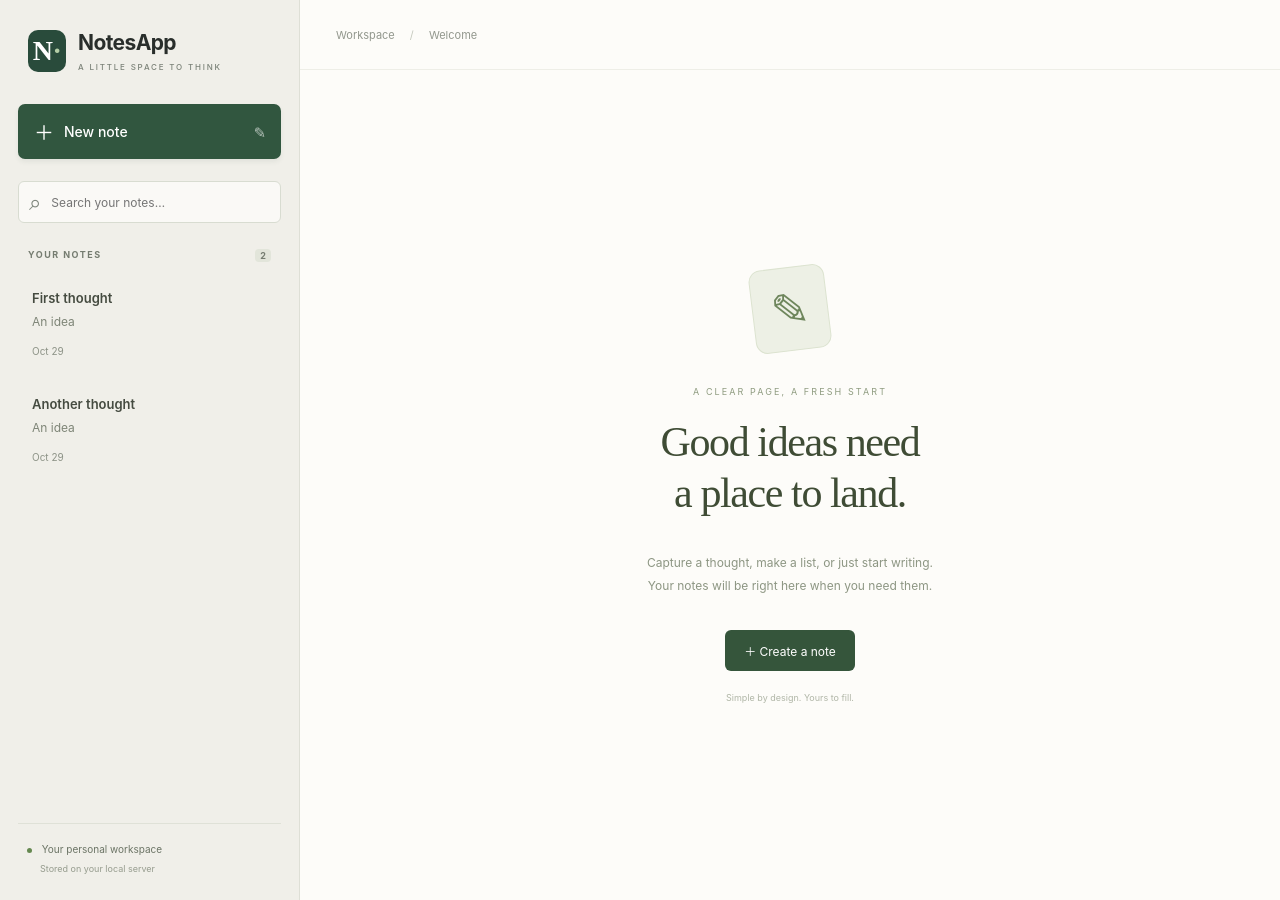
Test: Notes workspace › keeps edits when save fails, blocks navigation, and retries
Step 1. Click the button "First thought An idea Oct 29" → (72, 298), box [18,274,281,374]
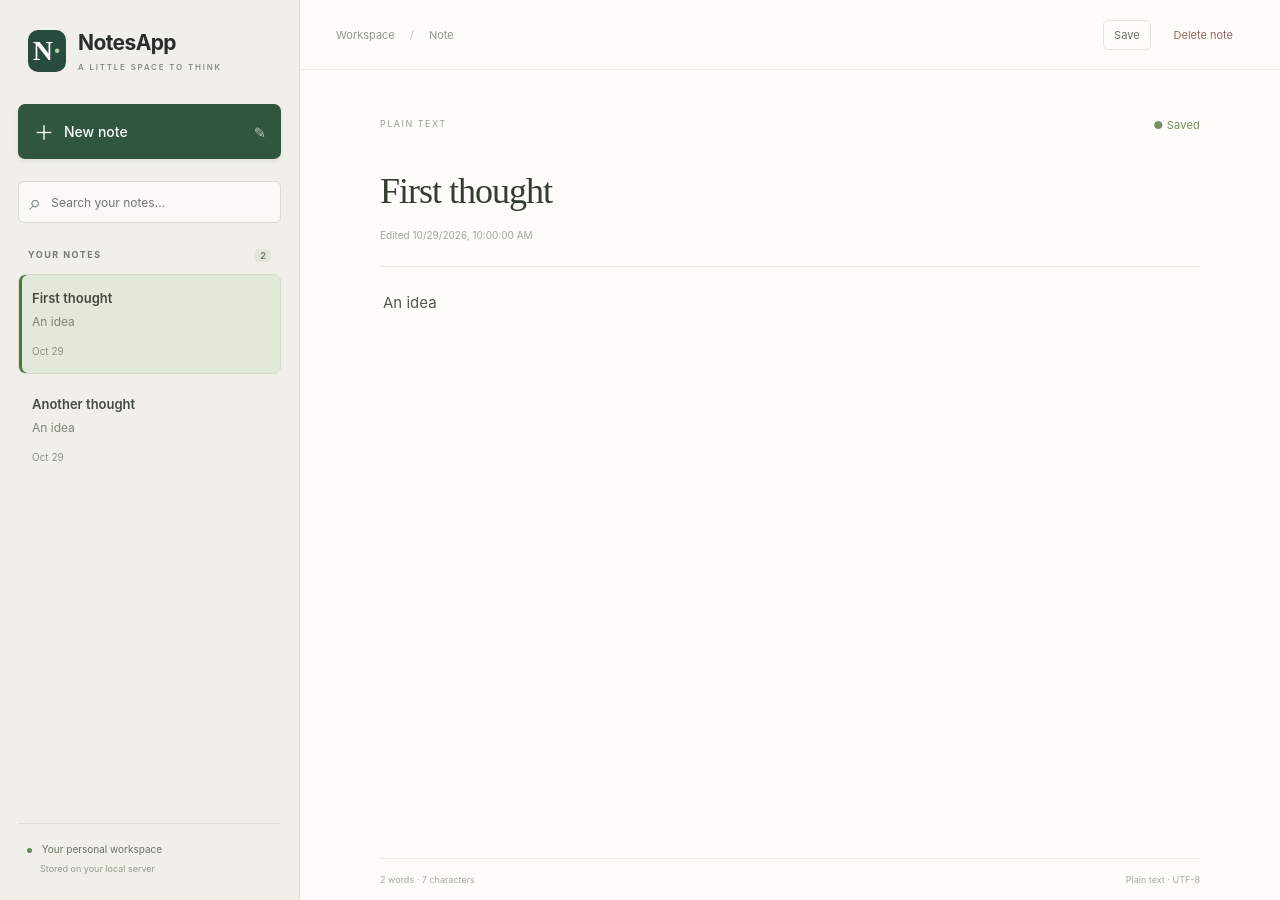
Step 2. Replace the text in the text box named "Note body" with "Keep this draft" → (790, 574), box [380,289,1200,858]
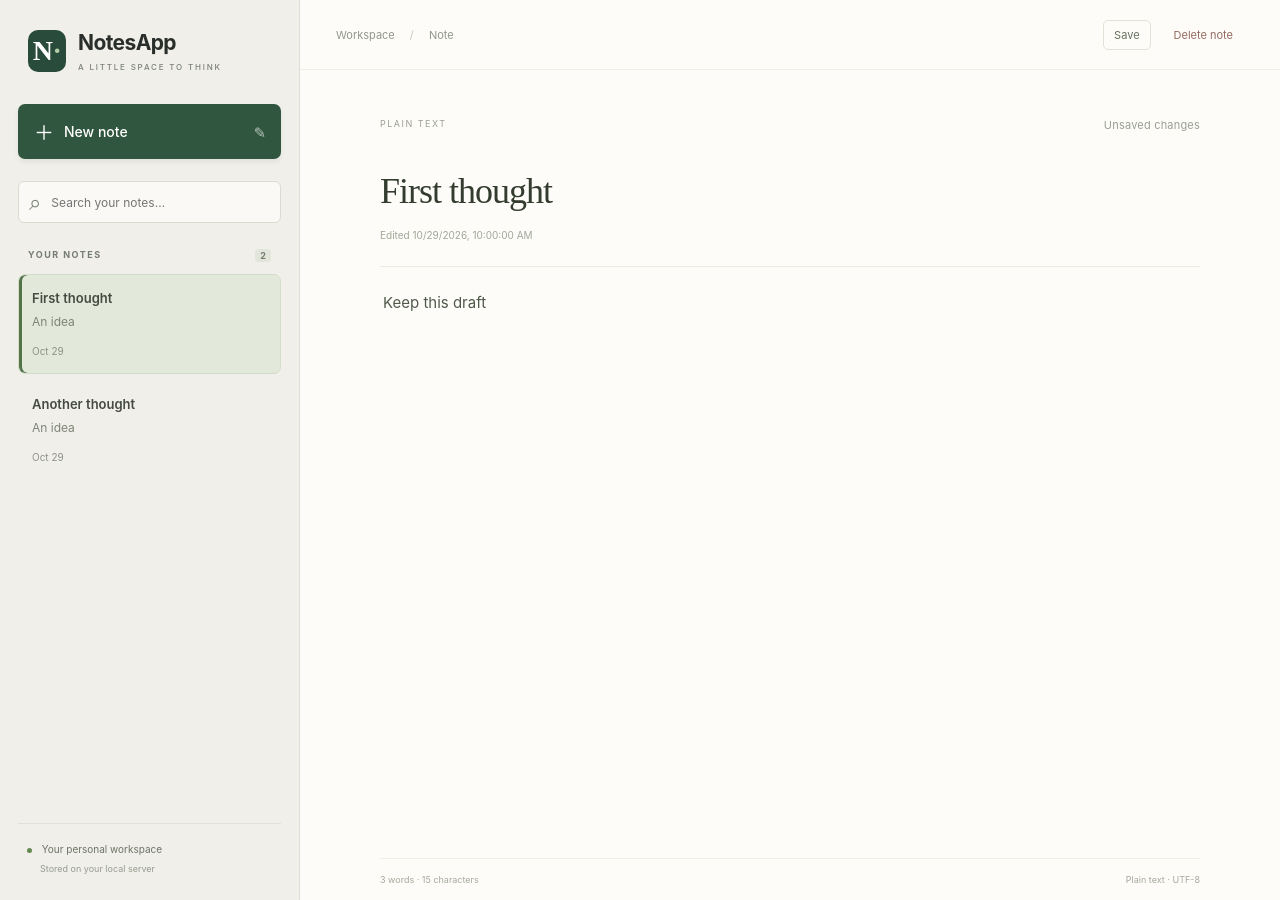
Step 3. Click the button "Another thought An idea Oct 29" → (84, 404), box [18,380,281,480]
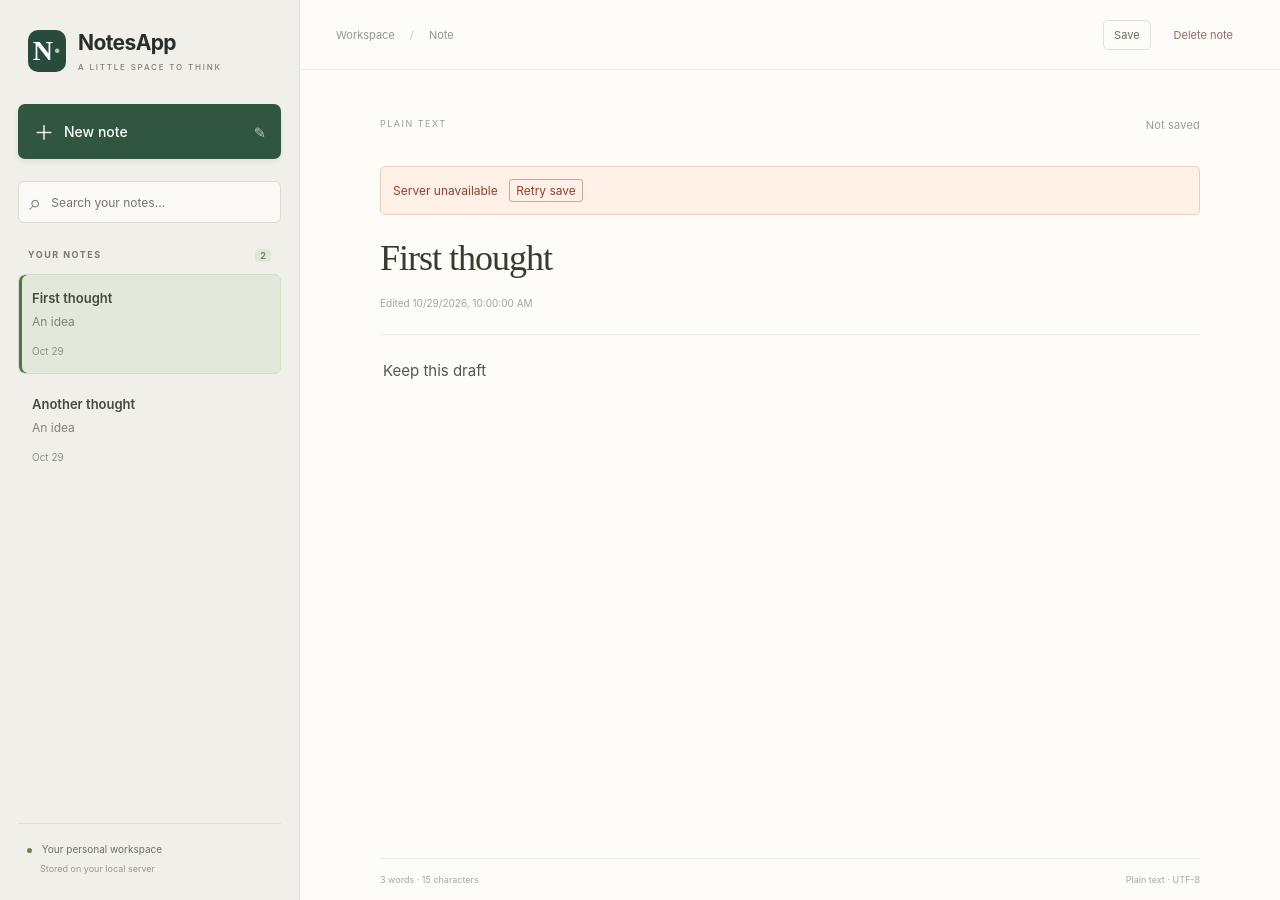
Result: the message "Server unavailable Retry save" is shown at [380,166,1200,215]
Step 4. Click the button "Retry save" → (546, 191), box [509,179,583,202]
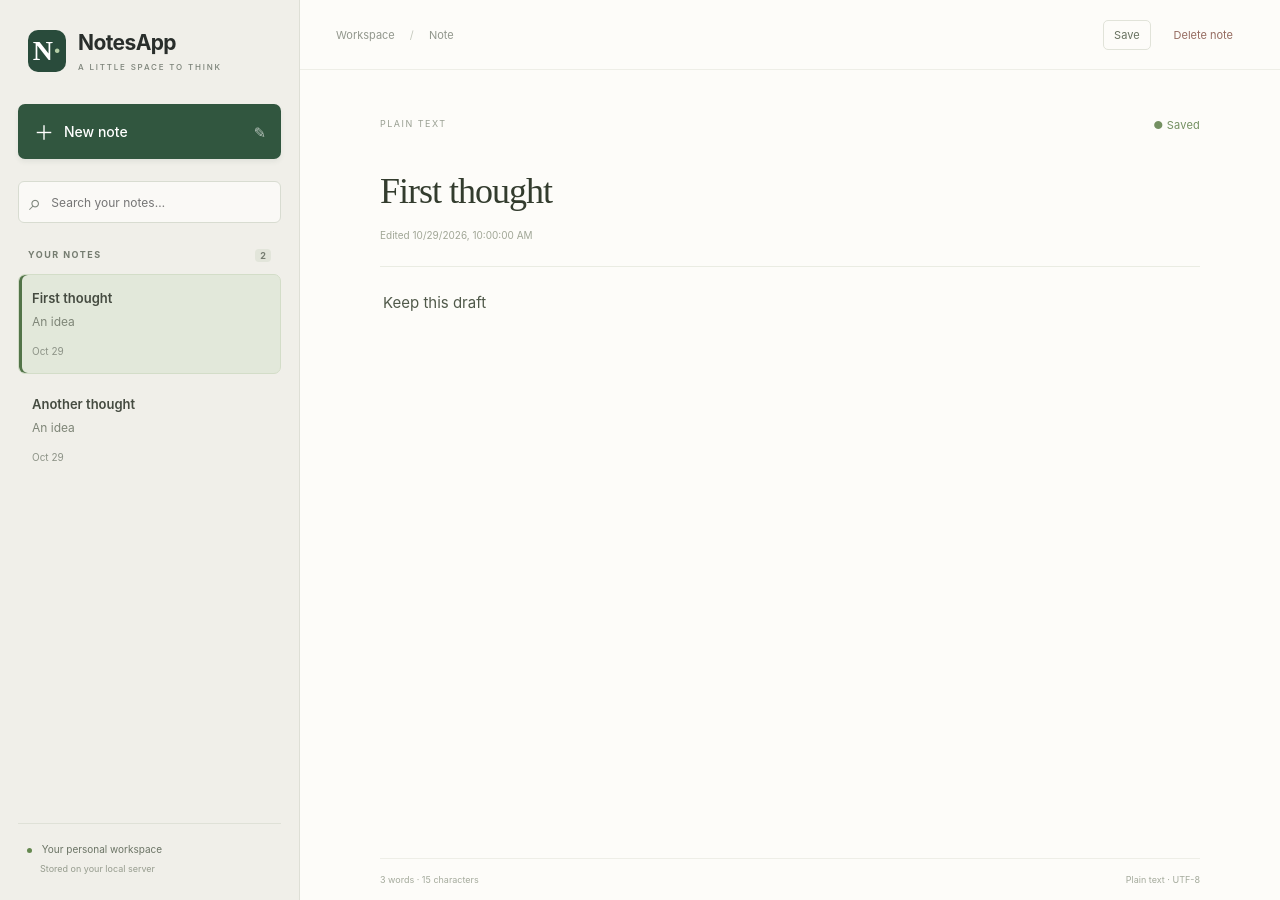
Result: the text "● Saved" is shown at [1153,118,1200,132]
